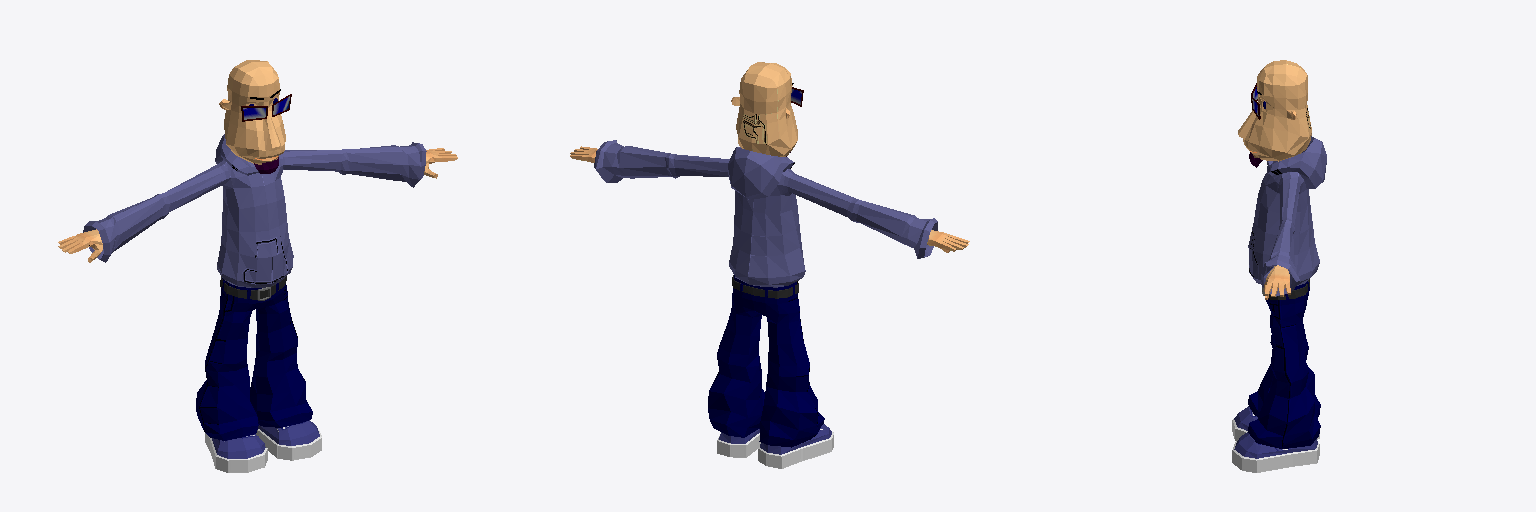
3 views of the same model, side by side, from view 1: azimuth 30°, elevation 25°; view 2: azimuth 150°, elevation 25°; view 3: azimuth 270°, elevation 25° (orthographic).
Parts seen in each view (by area): view 1: (null); view 2: (null); view 3: (null).
Boxes of the visible parts, <box> form: (null): <box>58,60,457,472</box>; (null): <box>570,62,969,468</box>; (null): <box>1232,60,1326,472</box>.
Size of the model in its own units: 2516 by 2343 by 526.
1 materials, 1 textured.